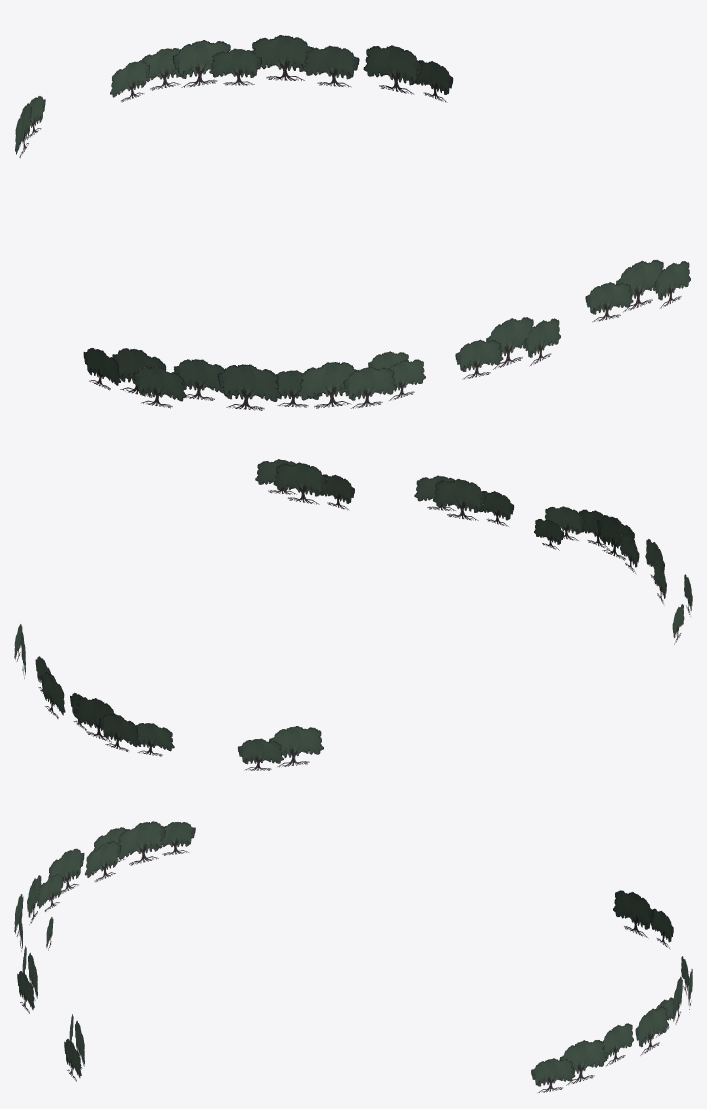
The model's file is Exterior_Pueblo.fbx.
3 renders of one model, top to bottom at view 1: azimuth 30°, elevation 25°; view 2: azimuth 150°, elevation 25°; view 3: azimuth 270°, elevation 25°, orthographic. The views are drawn at different scales.
Visible parts, largest first — view 1: Arboles; view 2: Arboles; view 3: Arboles.
Part boxes in pixels (bbox=[...]): Arboles: bbox=[15, 35, 690, 410]; Arboles: bbox=[14, 459, 692, 770]; Arboles: bbox=[14, 821, 692, 1093].
Size of what is drawn, in the model's own units: 89.14 by 9.91 by 105.
